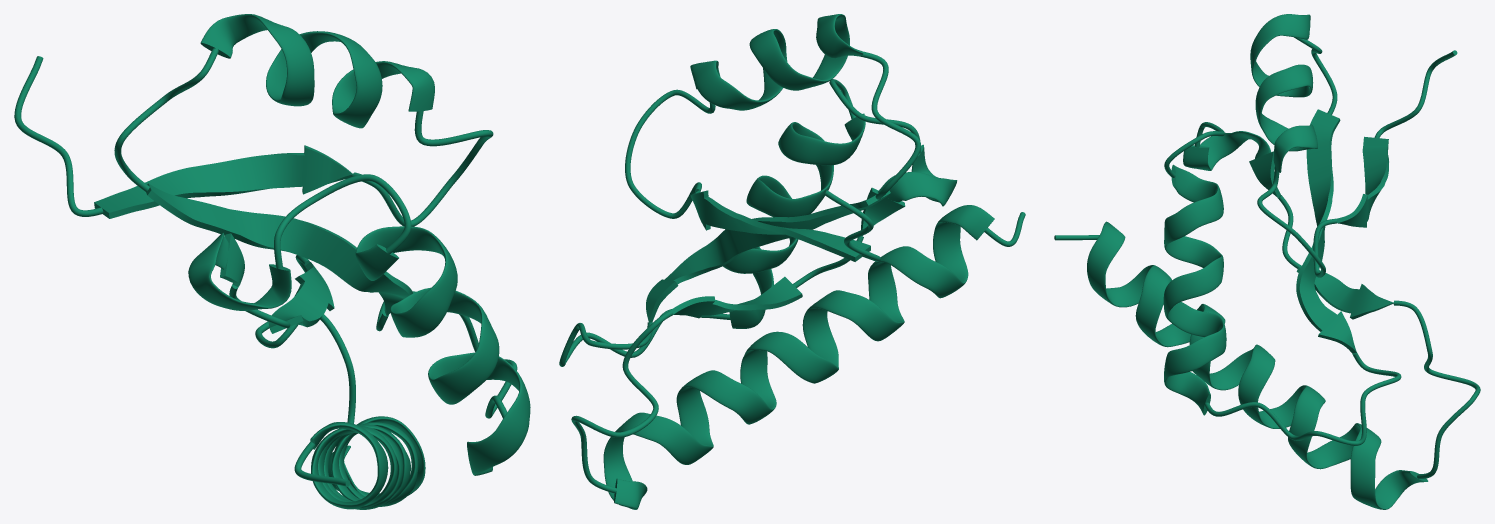
Rendered from ALIGNMENT_RESULT.PDB.glb.
3 views of the same model, side by side, from view 1: azimuth 30°, elevation 25°; view 2: azimuth 150°, elevation 25°; view 3: azimuth 270°, elevation 25° (orthographic). The views are drawn at different scales.
Bounding box in the file's own units: 29.15 × 37.73 × 34.27.
